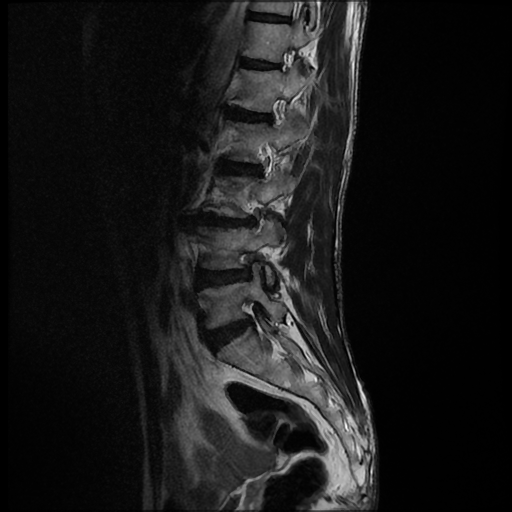LFS0: (259, 92, 294, 136)
